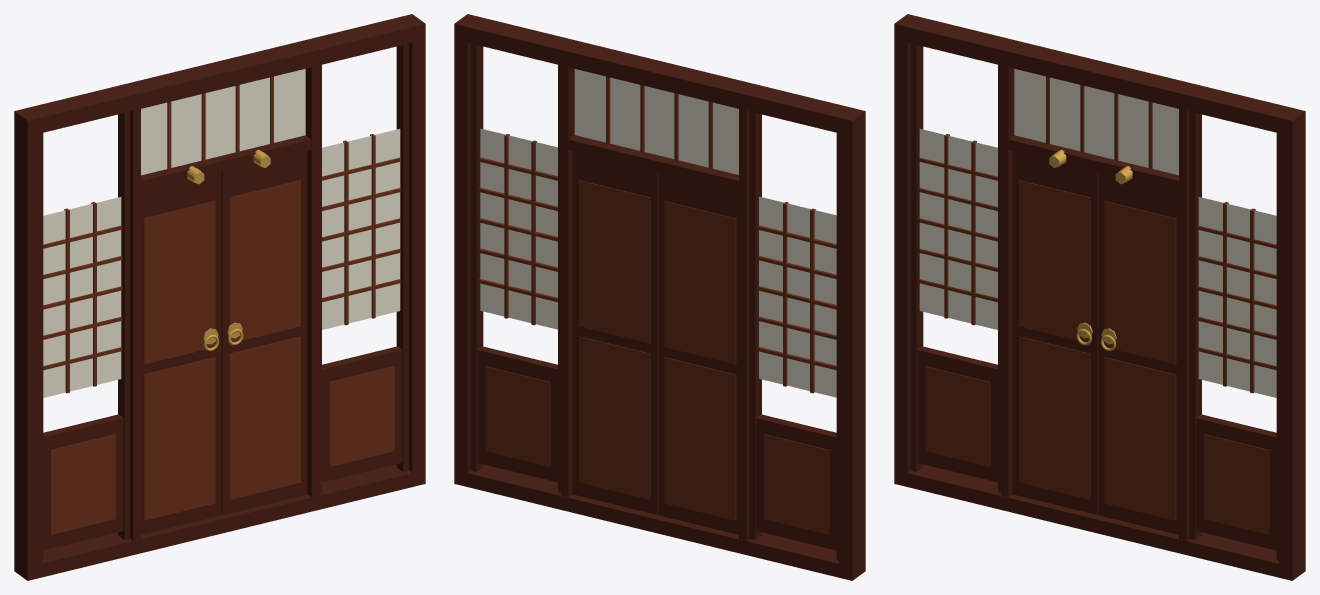
The model's file is pal1-inn-door.glb.
3 views of the same model, side by side, from view 1: azimuth 30°, elevation 25°; view 2: azimuth 150°, elevation 25°; view 3: azimuth 330°, elevation 25° (orthographic).
Visible parts, largest first — view 1: Pal1InnDoorBay; view 2: Pal1InnDoorBay; view 3: Pal1InnDoorBay.
Part boxes in pixels (<box>): Pal1InnDoorBay: <box>14,14,425,580</box>; Pal1InnDoorBay: <box>454,14,865,580</box>; Pal1InnDoorBay: <box>894,14,1305,580</box>.
Size of the model in its own units: 2.4 by 2.65 by 0.2.
